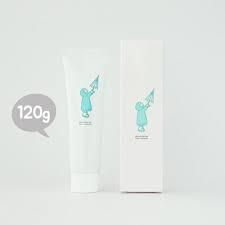toothpaste: (61, 45, 113, 195)
